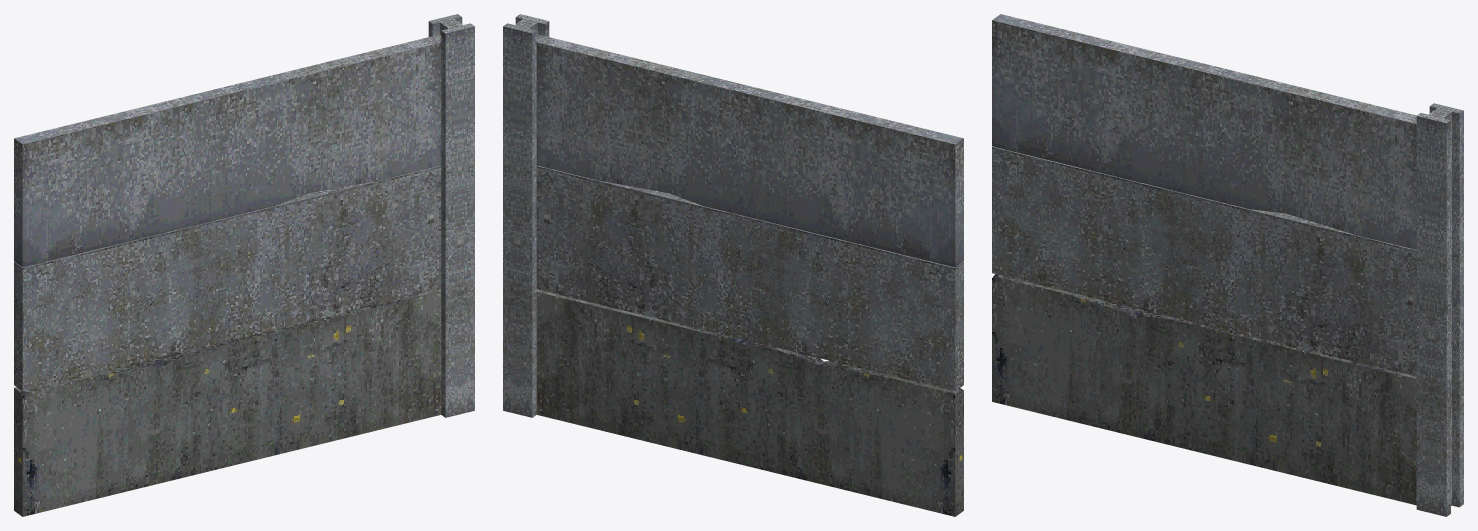
File: plackard_open_alt2.glb
3 renders of one model, left to right at view 1: azimuth 30°, elevation 25°; view 2: azimuth 150°, elevation 25°; view 3: azimuth 330°, elevation 25°, orthographic. The views are drawn at different scales.
Parts seen in each view (by area): view 1: plackard_open_alt2; view 2: plackard_open_alt2; view 3: plackard_open_alt2.
Part boxes in pixels (x1,y1,x2,y2): plackard_open_alt2: [14, 14, 474, 516]; plackard_open_alt2: [503, 14, 963, 516]; plackard_open_alt2: [992, 14, 1463, 516].
Bounding box in the file's own units: 3.05 × 2.5 × 0.2.
Materials: 1 (1 with a texture image).
